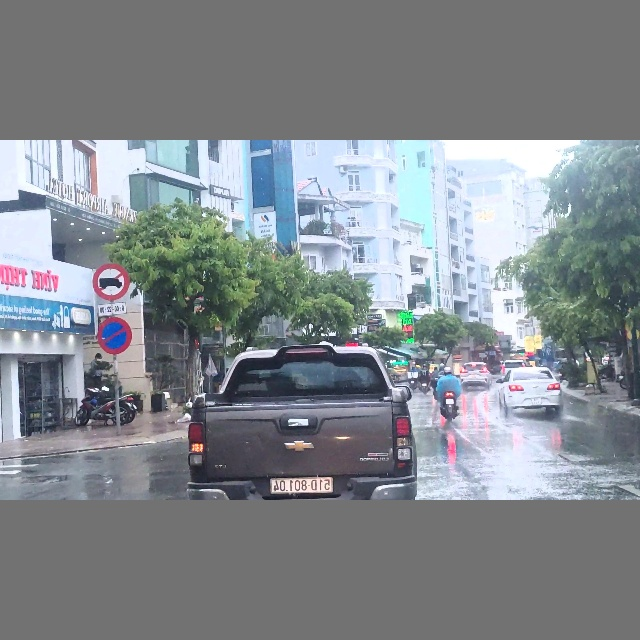P.106a*Xe tai: (92, 263, 129, 300)
P.131a: (98, 316, 132, 354)
